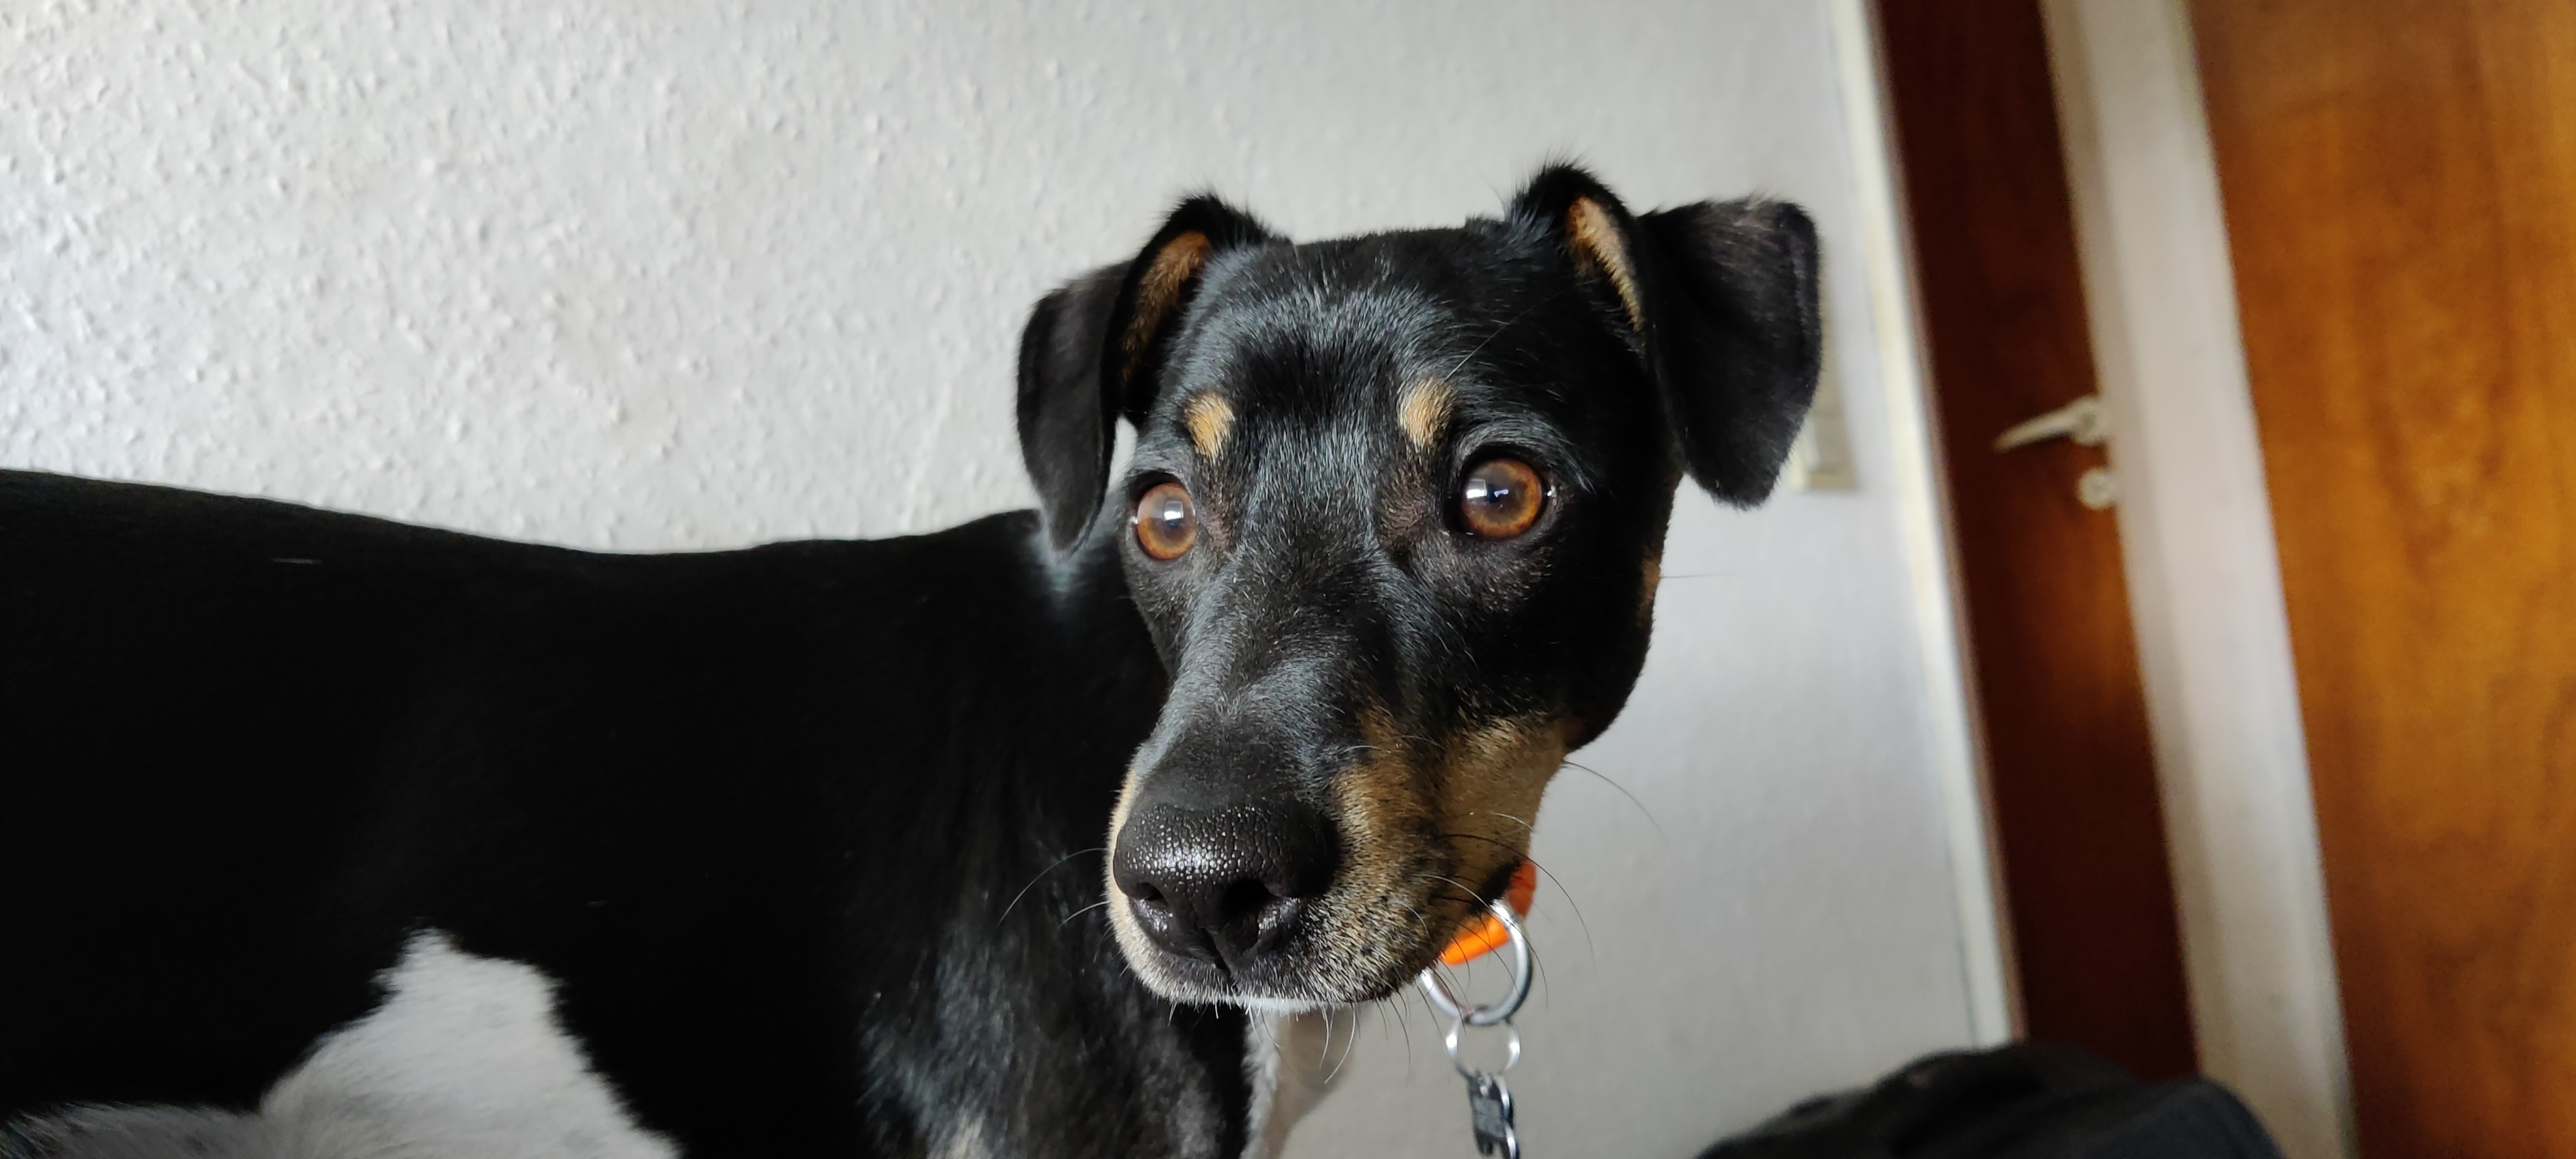Dog: (0, 149, 1855, 1159)
